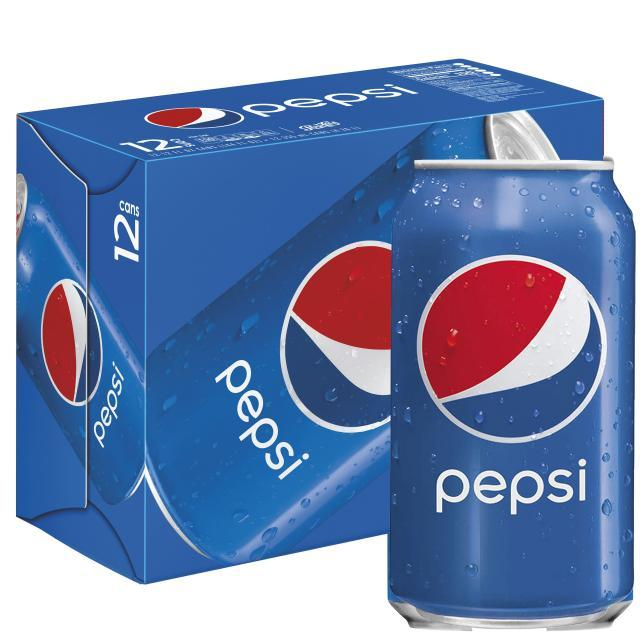can: (378, 144, 640, 640)
